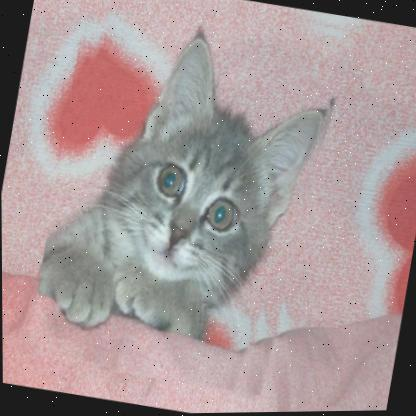cat: (23, 0, 351, 403)
